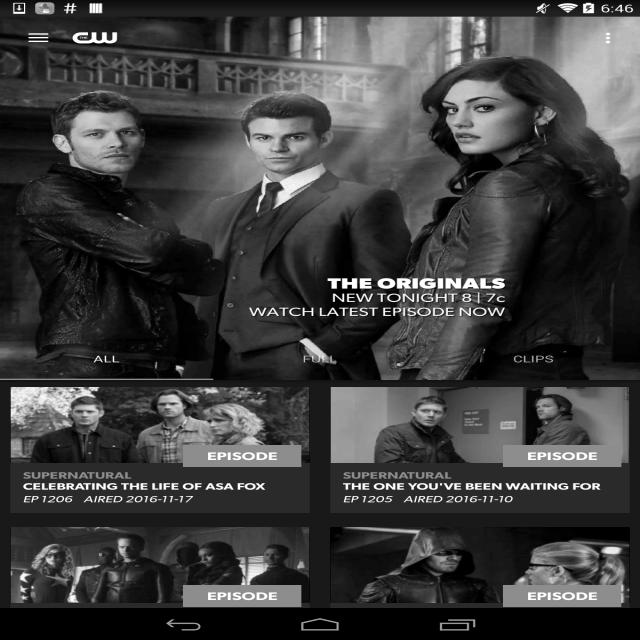ImageButton: (9, 17, 68, 59)
ImageView: (0, 17, 640, 380), (0, 17, 640, 337), (10, 387, 310, 492), (330, 387, 630, 492), (10, 527, 310, 632), (330, 527, 630, 632), (589, 22, 631, 54), (68, 28, 122, 48)
TextView: (23, 481, 294, 492), (343, 481, 614, 492), (183, 445, 301, 467), (503, 445, 621, 467), (183, 585, 301, 607), (503, 585, 621, 607), (84, 493, 193, 505), (404, 493, 513, 505), (23, 470, 132, 480), (343, 470, 452, 480), (23, 493, 84, 505), (343, 493, 404, 505), (513, 352, 554, 365), (302, 352, 337, 365), (94, 352, 120, 365)
